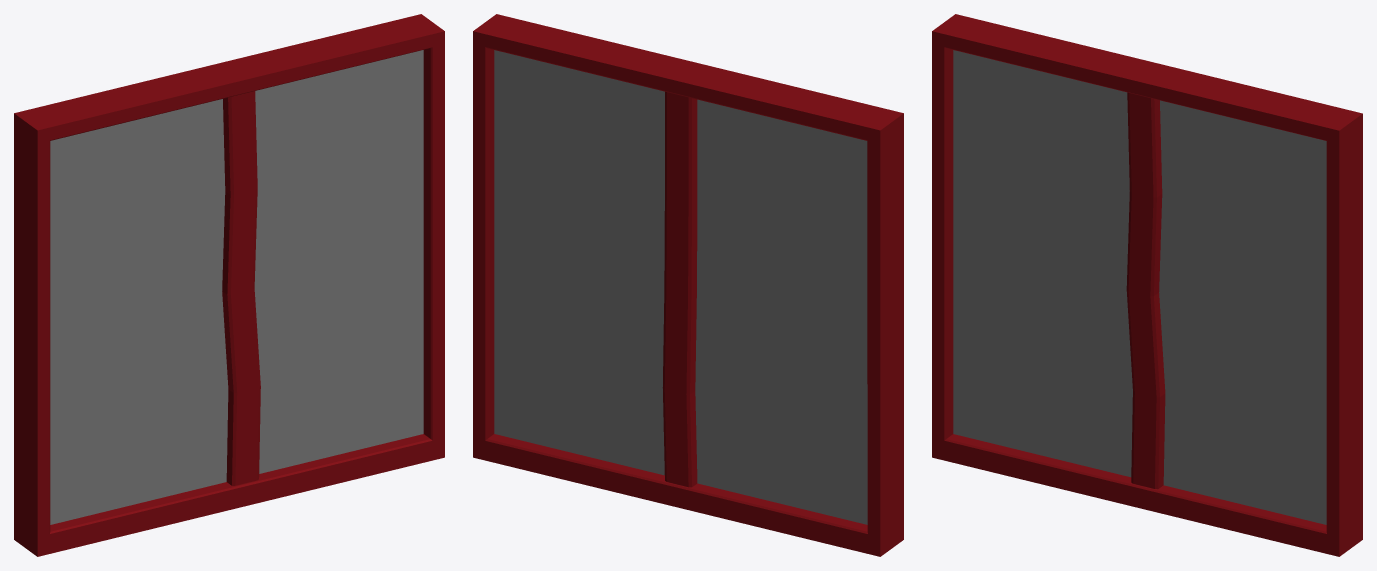
The model's file is SM_MH_01_Wood_02_Wall_Indoor_01.fbx.
The picture shows the model from 3 angles, left to right: view 1: azimuth 30°, elevation 25°; view 2: azimuth 150°, elevation 25°; view 3: azimuth 330°, elevation 25°; orthographic projection.
Parts seen in each view (by area): view 1: SM_MH_01_Wood_02_Wall_Indoor_01_LOD0; view 2: SM_MH_01_Wood_02_Wall_Indoor_01_LOD0; view 3: SM_MH_01_Wood_02_Wall_Indoor_01_LOD0.
Boxes of the visible parts, x1,y1,x2,y2 form: SM_MH_01_Wood_02_Wall_Indoor_01_LOD0: (14, 14, 444, 556); SM_MH_01_Wood_02_Wall_Indoor_01_LOD0: (473, 14, 903, 556); SM_MH_01_Wood_02_Wall_Indoor_01_LOD0: (932, 14, 1362, 556).
Size of what is drawn, in the model's own units: 300 by 300 by 30.
